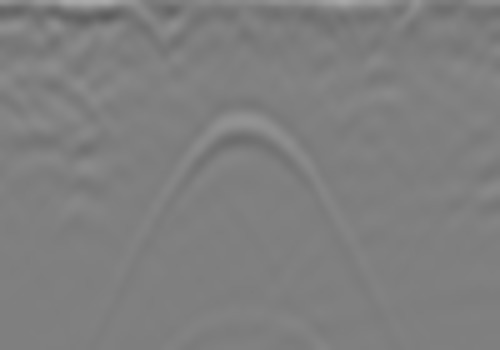hyperbola: (110, 99, 374, 310)
